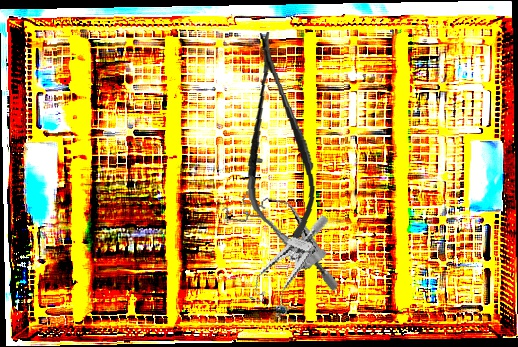Micro Scissor: (233, 28, 323, 255)
Speculum: (209, 183, 355, 294), (244, 201, 330, 325)
